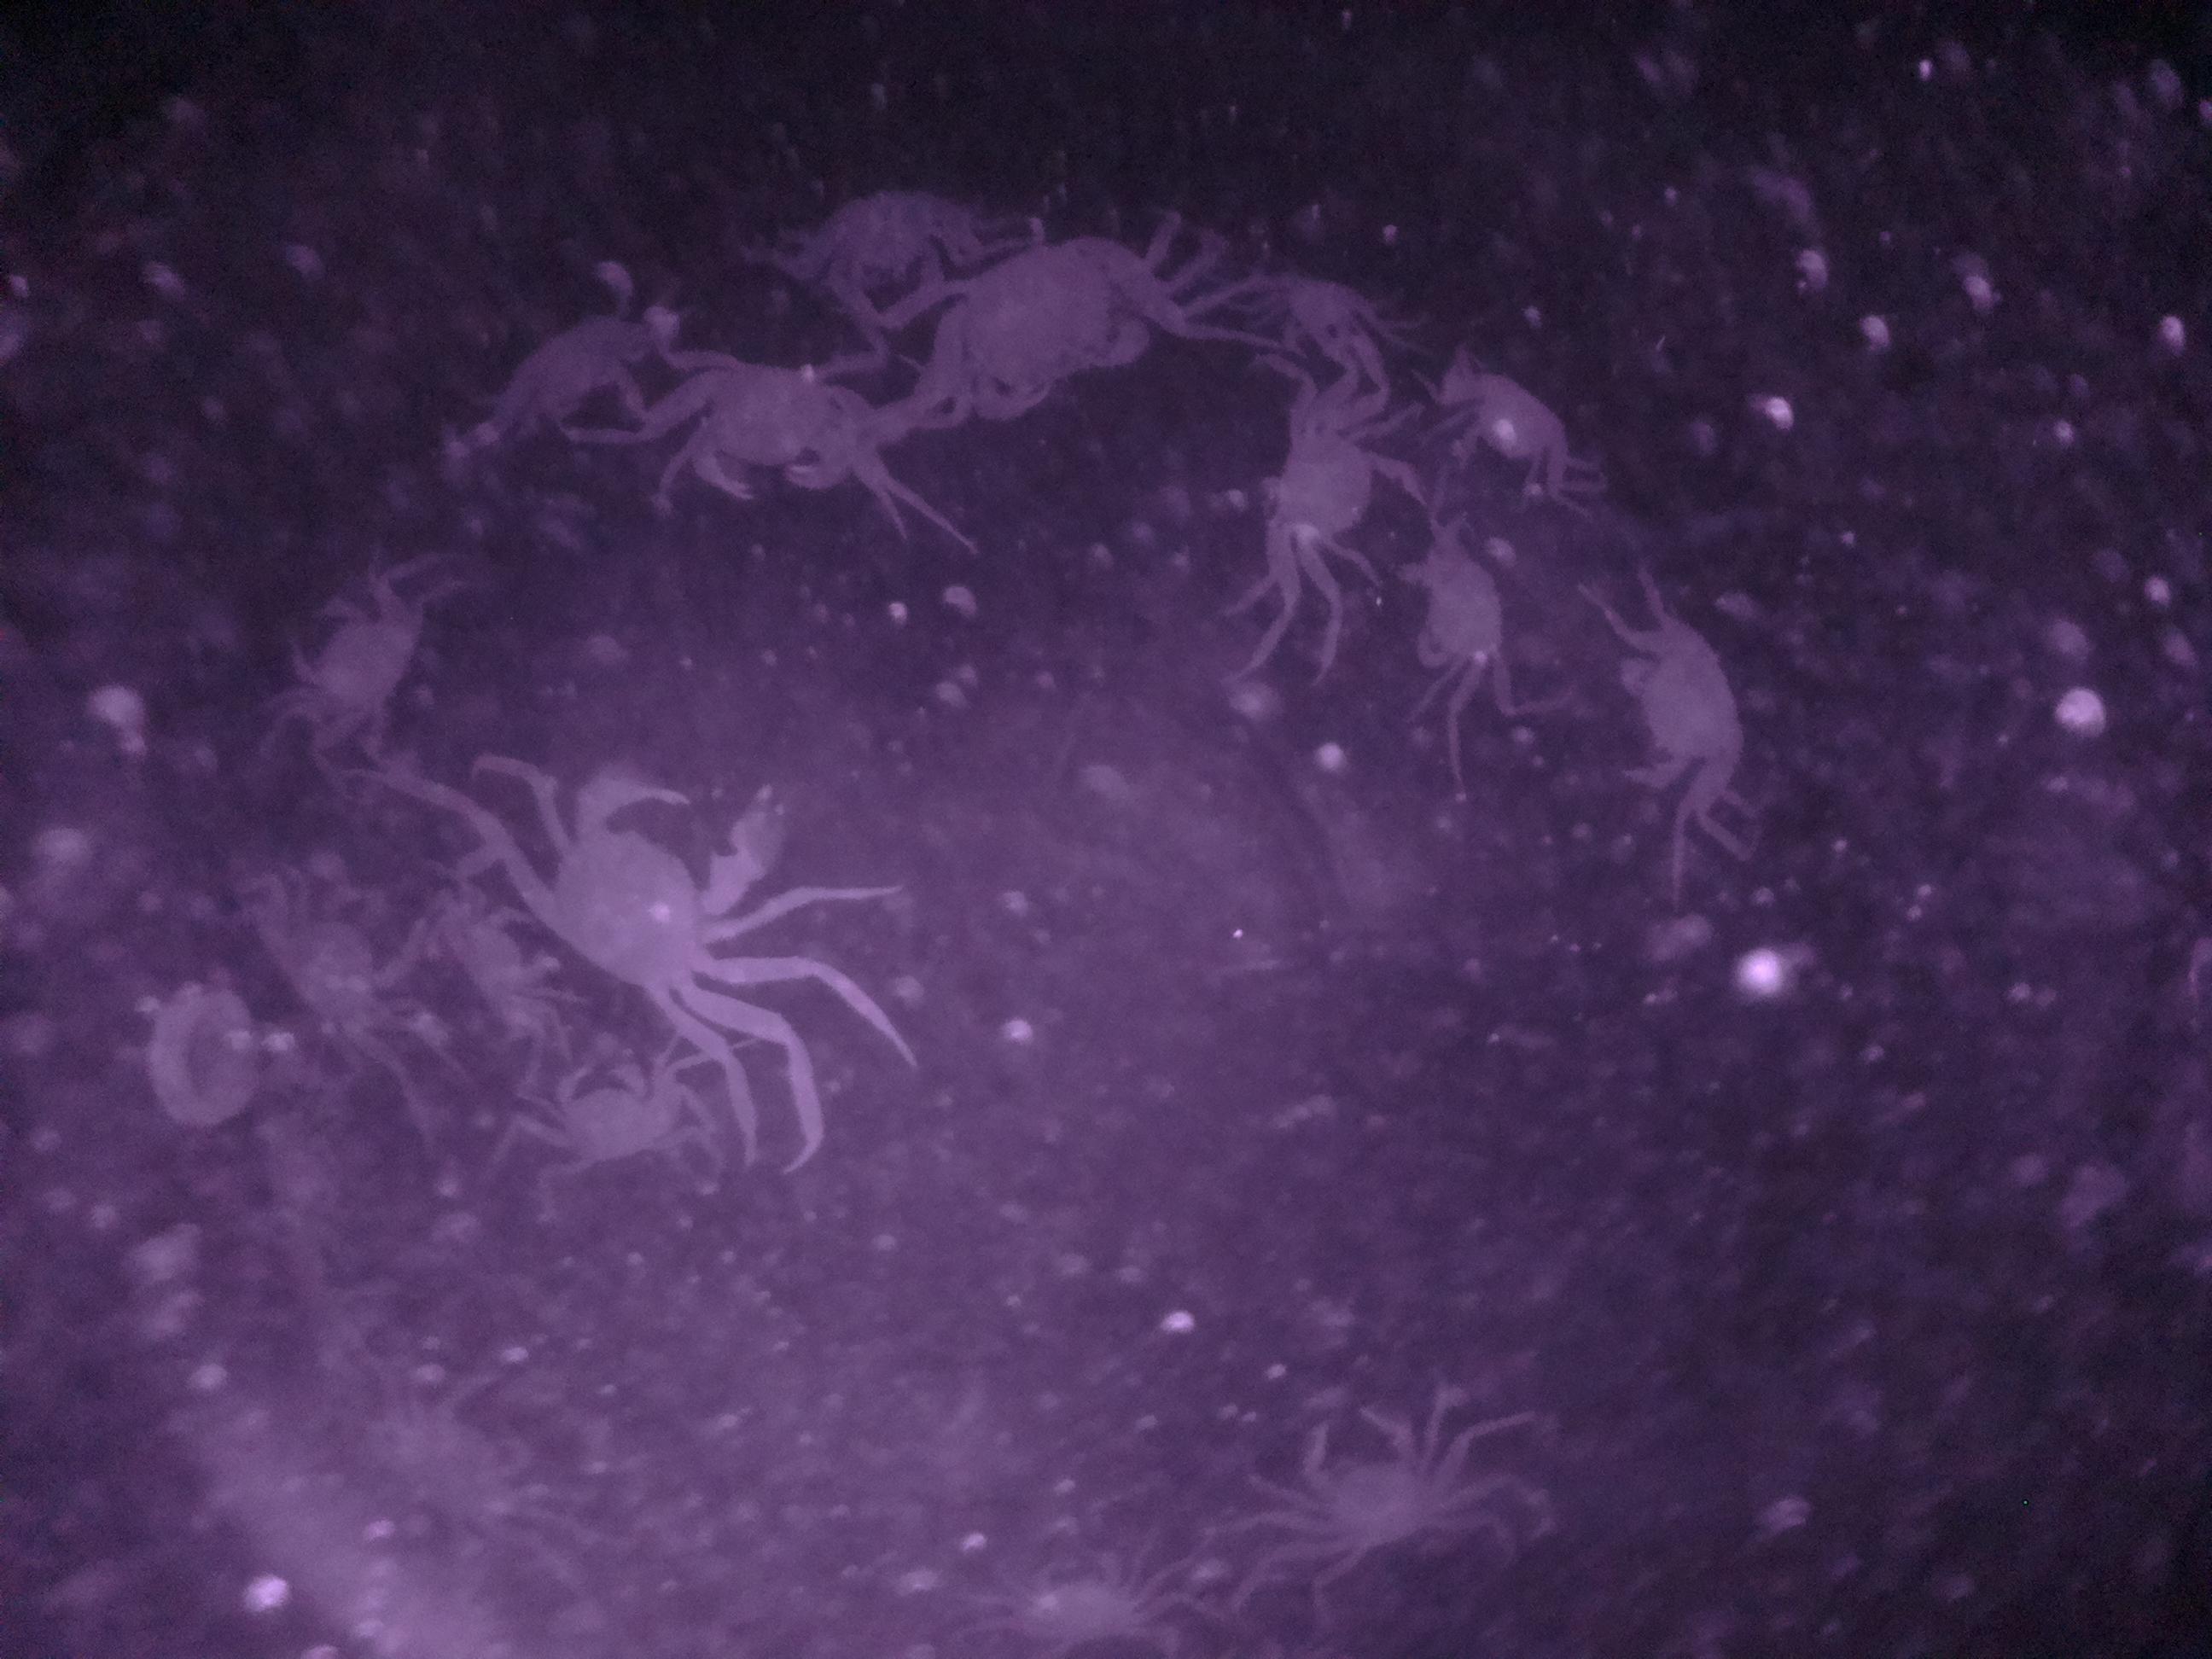Crab: (557, 744, 794, 1016), (918, 206, 1181, 439), (1599, 596, 1787, 829), (1226, 401, 1432, 606), (651, 331, 883, 504), (1275, 1398, 1479, 1572), (510, 1040, 702, 1183), (270, 586, 434, 739), (1406, 533, 1527, 701)
